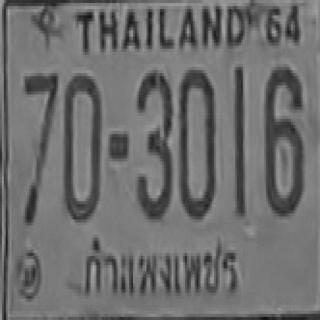N00: (62, 72, 100, 221), (177, 67, 214, 216)
N01: (232, 66, 244, 215), (232, 66, 244, 212)
N03: (135, 69, 172, 218)
N06: (263, 64, 304, 213)
N07: (23, 70, 58, 222), (23, 70, 58, 177)
P16: (77, 229, 243, 307)
